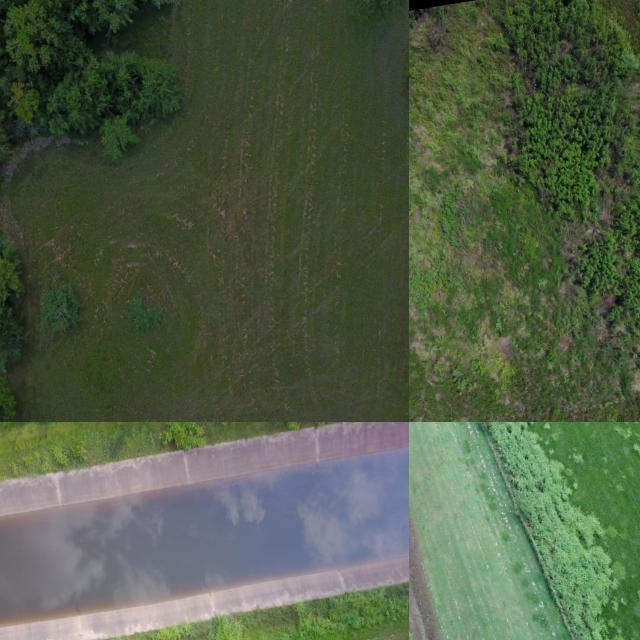fire: (0, 446, 409, 624)
